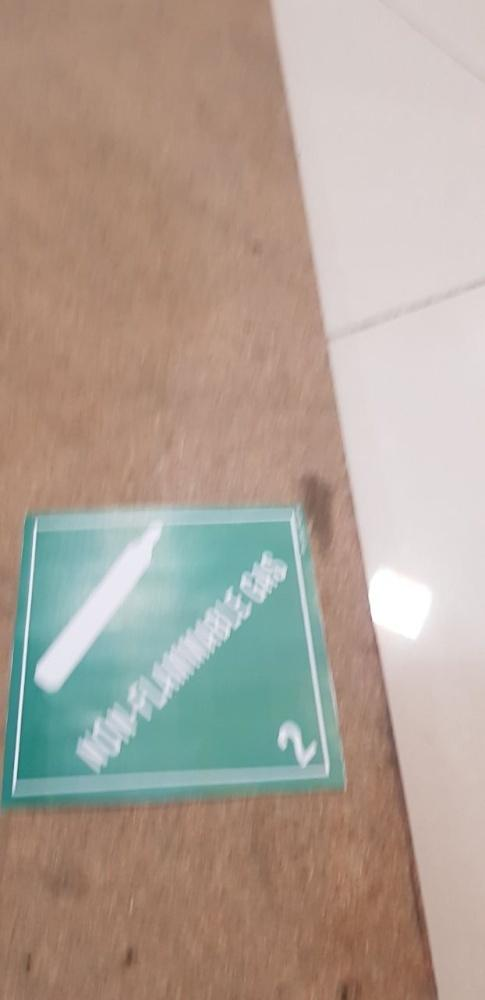non-flammable-gas: (6, 501, 353, 802)
